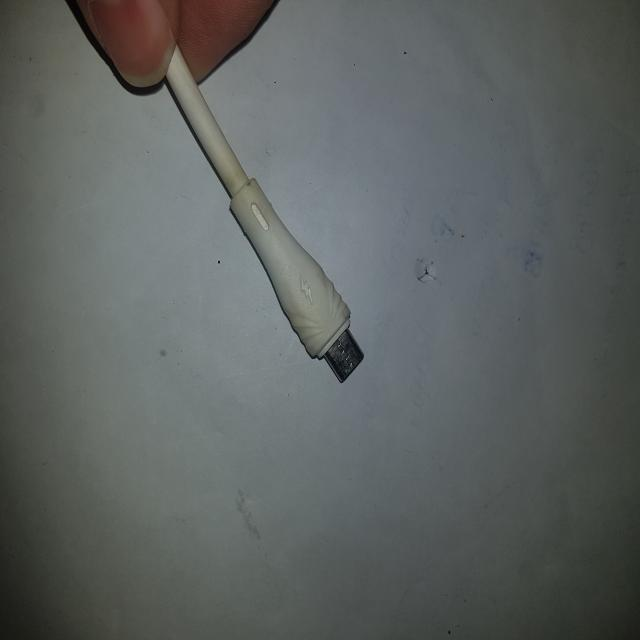electronic: (126, 38, 426, 441)
